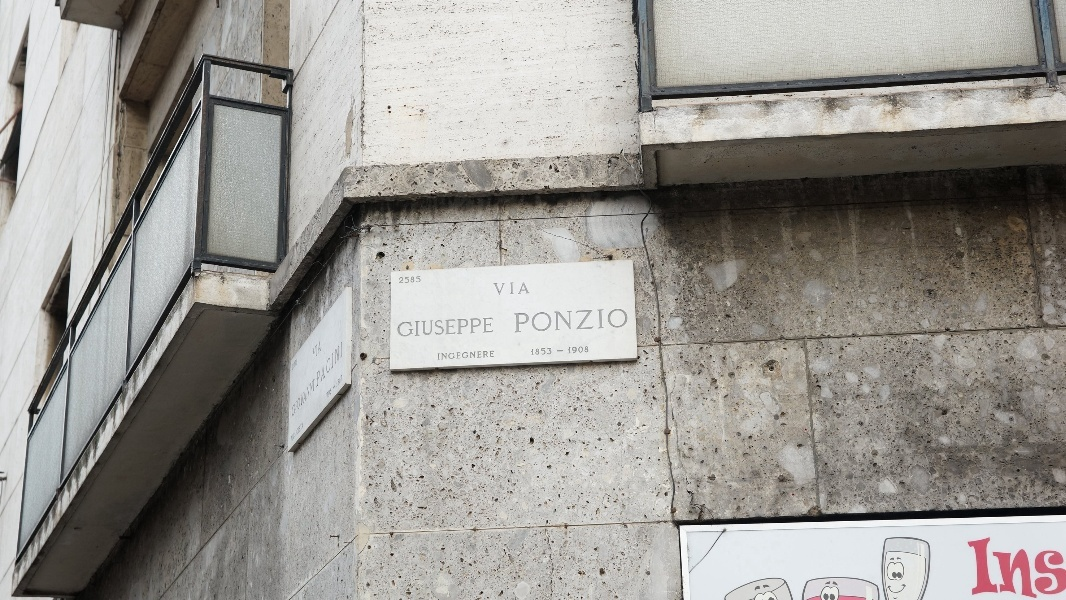text: (977, 536, 992, 600), (993, 536, 1008, 600), (1009, 536, 1024, 600), (1025, 536, 1040, 600), (1041, 536, 1056, 600), (321, 342, 336, 388), (967, 536, 976, 600), (1057, 536, 1066, 600), (292, 379, 304, 417), (305, 379, 315, 417), (529, 309, 544, 333), (545, 309, 560, 333), (561, 309, 576, 333), (577, 309, 592, 333), (593, 309, 608, 333), (609, 309, 624, 333), (514, 309, 528, 333), (401, 318, 416, 337), (417, 318, 432, 337), (433, 318, 448, 337), (449, 318, 464, 337), (465, 318, 480, 337), (337, 342, 343, 388), (326, 375, 336, 401), (481, 318, 494, 337), (291, 423, 304, 442), (497, 282, 512, 295), (513, 282, 528, 295), (292, 359, 304, 371), (449, 351, 464, 360), (465, 351, 480, 360), (545, 347, 560, 356), (561, 347, 576, 356), (337, 375, 342, 401), (401, 276, 416, 284), (481, 351, 494, 360), (313, 342, 320, 358), (532, 347, 544, 356), (577, 347, 588, 356), (318, 342, 320, 388), (438, 351, 448, 360), (625, 309, 628, 333), (397, 318, 400, 337), (417, 276, 421, 284), (494, 282, 496, 295), (321, 342, 322, 358), (529, 282, 530, 295)
